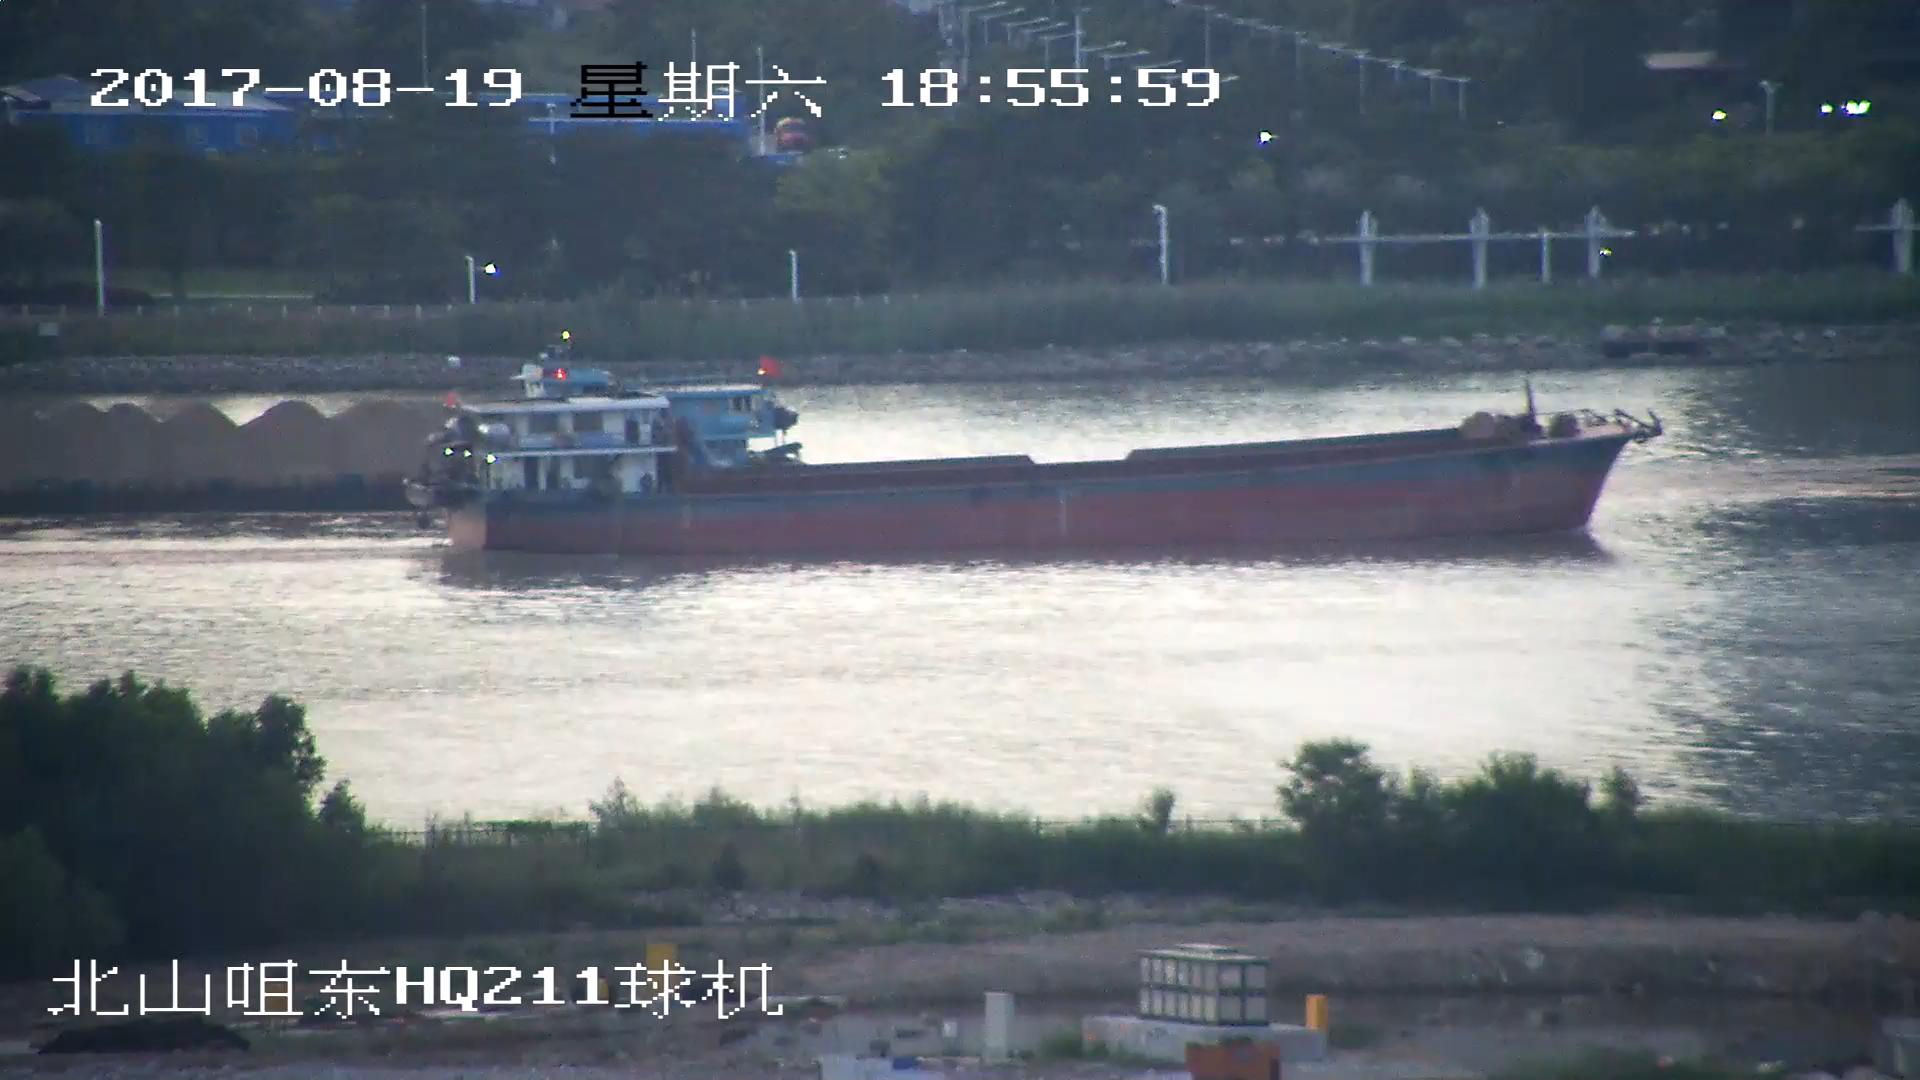bulk cargo carrier: (401, 406, 1668, 550)
ore carrier: (1, 352, 805, 509)
